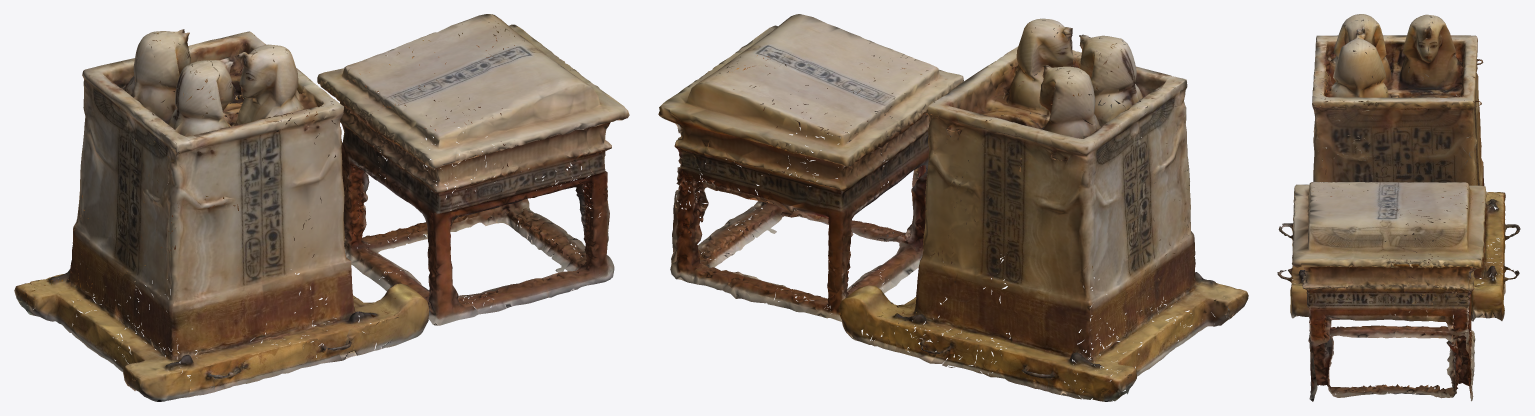
The model's file is canopic.glb.
3 renders of one model, left to right at view 1: azimuth 30°, elevation 25°; view 2: azimuth 150°, elevation 25°; view 3: azimuth 270°, elevation 25°, orthographic. The views are drawn at different scales.
Visible parts, largest first — view 1: Object_8, Object_2, Object_6, Object_7, Object_3, Object_5, Object_4, Object_9; view 2: Object_5, Object_3, Object_7, Object_4, Object_2, Object_6, Object_8, Object_9; view 3: Object_2, Object_6, Object_3, Object_7, Object_5, Object_4, Object_8, Object_9.
Boxes of the visible parts, box(x1,y1,x2,y2) form: Object_8: box(111, 31, 608, 401); Object_2: box(378, 19, 629, 314); Object_6: box(17, 31, 354, 333); Object_7: box(14, 29, 405, 396); Object_3: box(315, 14, 586, 350); Object_5: box(17, 31, 569, 362); Object_4: box(317, 53, 574, 285); Object_9: box(354, 23, 567, 249); Object_5: box(818, 39, 1192, 399); Object_3: box(658, 52, 1013, 312); Object_7: box(860, 18, 1248, 401); Object_4: box(670, 83, 955, 351); Object_2: box(690, 14, 937, 247); Object_6: box(894, 36, 1189, 401); Object_8: box(685, 18, 1247, 348); Object_9: box(675, 50, 836, 318); Object_2: box(1292, 182, 1485, 401); Object_6: box(1312, 14, 1519, 312); Object_3: box(1290, 182, 1485, 397); Object_7: box(1277, 14, 1505, 315); Object_5: box(1310, 14, 1520, 298); Object_4: box(1307, 182, 1504, 401); Object_8: box(1278, 14, 1485, 360); Object_9: box(1384, 217, 1475, 396).
Size of the model in its own units: 8.04 by 4.59 by 4.22.
1 material, 1 textured.
